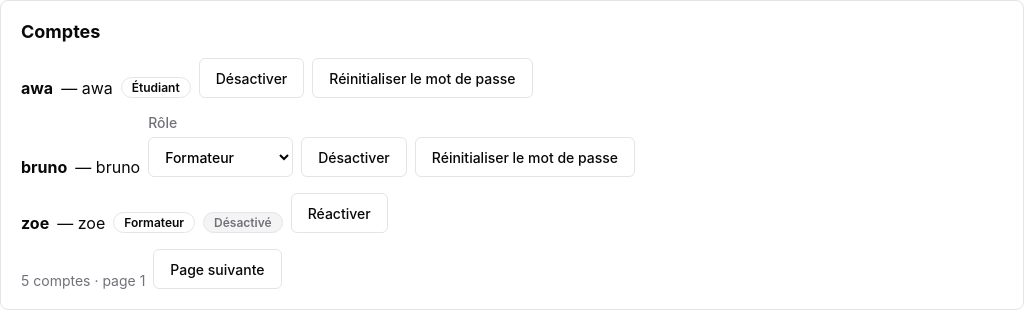
Test: ListeComptesComponent (SF-20, #138) › passe à la page suivante puis affiche la page rendue par le serveur
This screenshot has width=1024, height=327.
Step 1. Click the button "Page suivante" → (217,269), box [153,249,282,289]
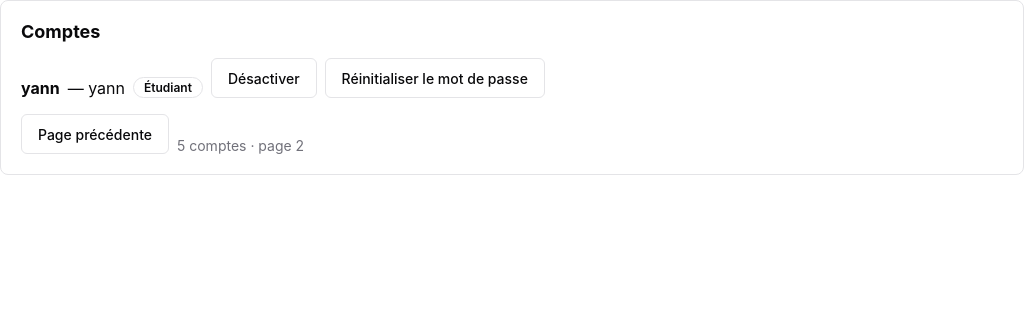
Expected: the text "5 comptes · page 2" is shown, [177,137,304,154]
Expected: the text "yann" is shown, [21,78,60,98]
Expected: the text "Page suivante" is gone
